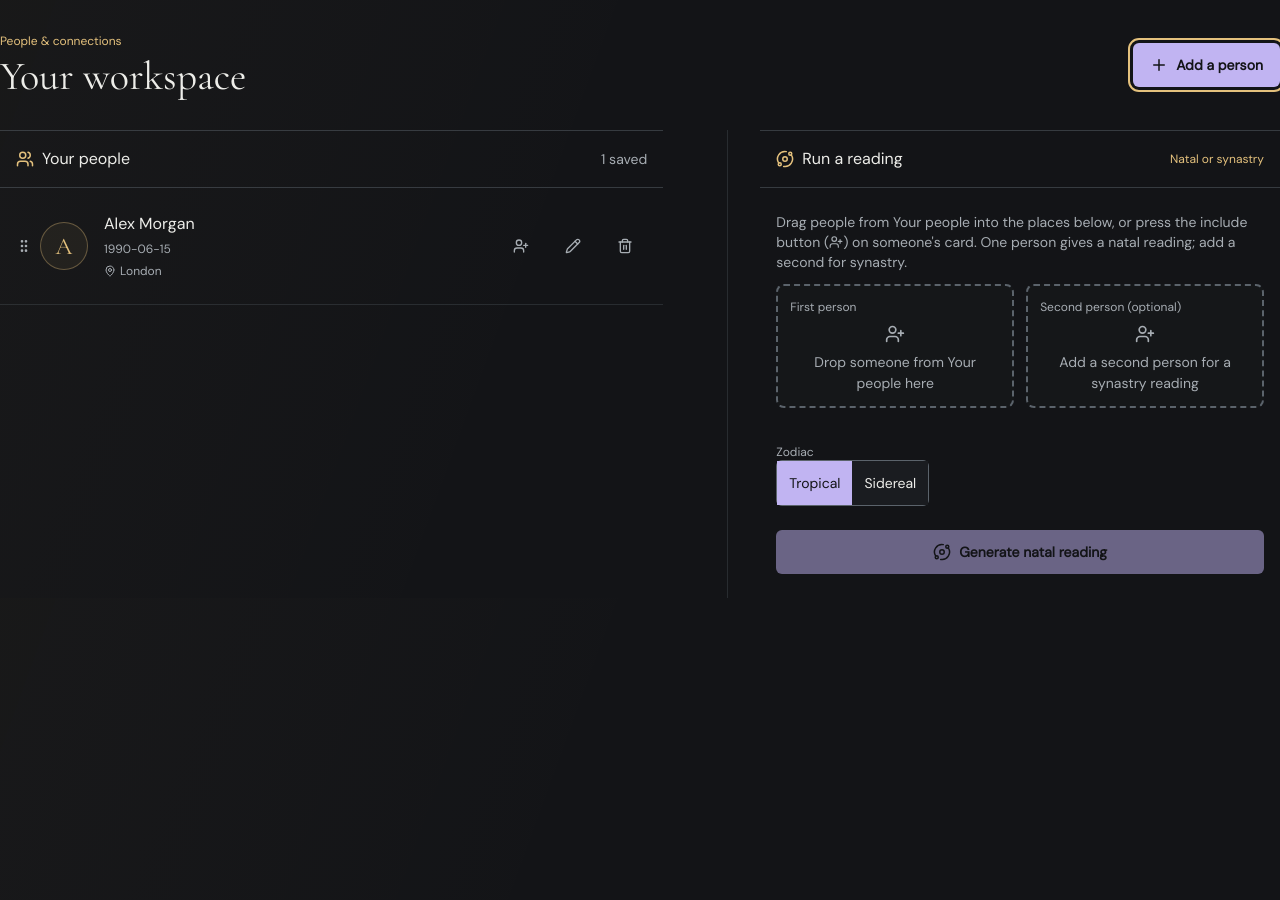
Test case: Workspace person dialogs › keeps saved charts prominent and preserves a draft when the dialog is dismissed
Check: the heading "Alex Morgan" is shown, box [104, 213, 195, 234]
Check: the field labelled "Name" is not shown
Click the button "Add a person".
click(1207, 65)  # box [1133, 43, 1279, 87]
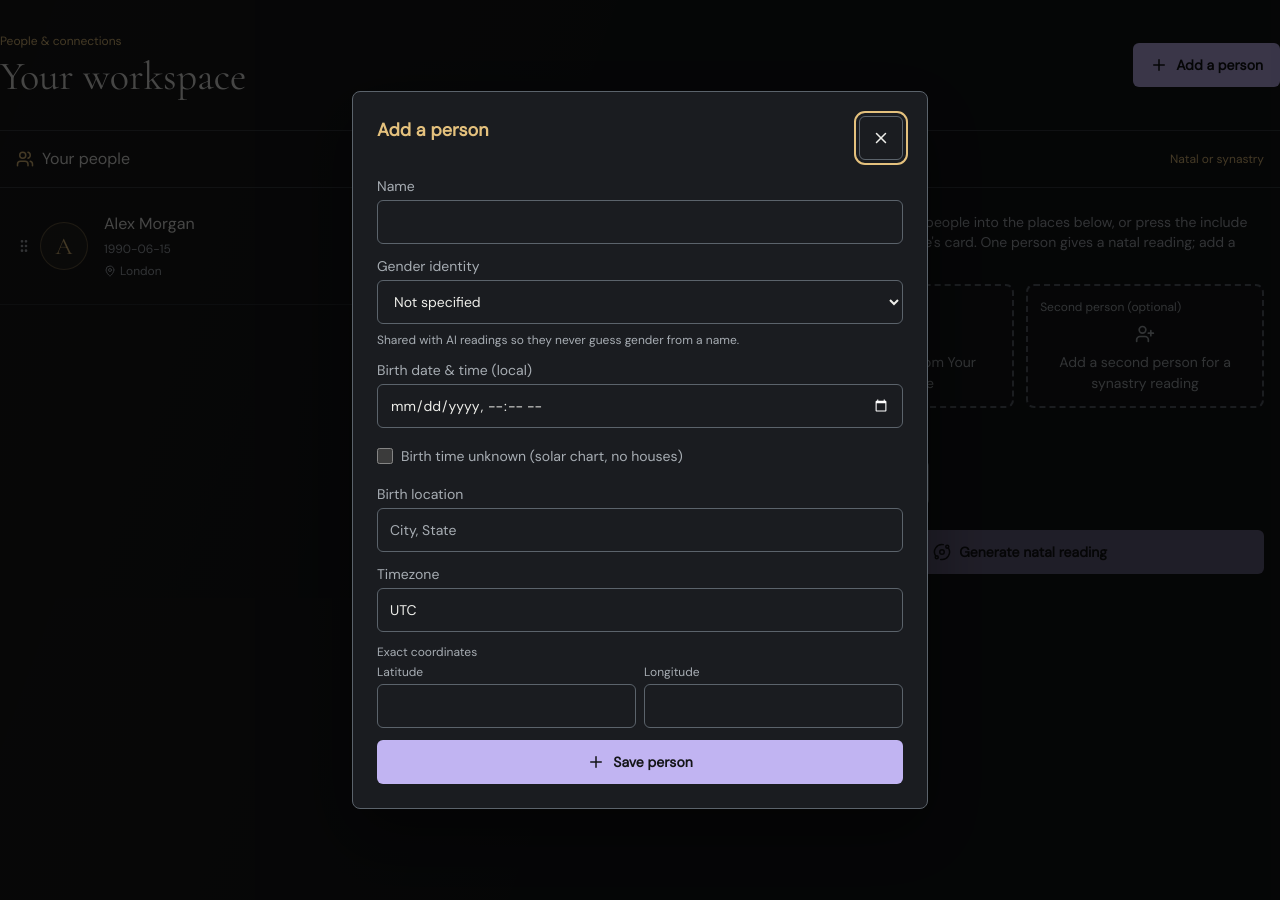
Type "New person" into the field labelled "Name".
click(640, 222); type("New person")  # box [377, 200, 903, 244]
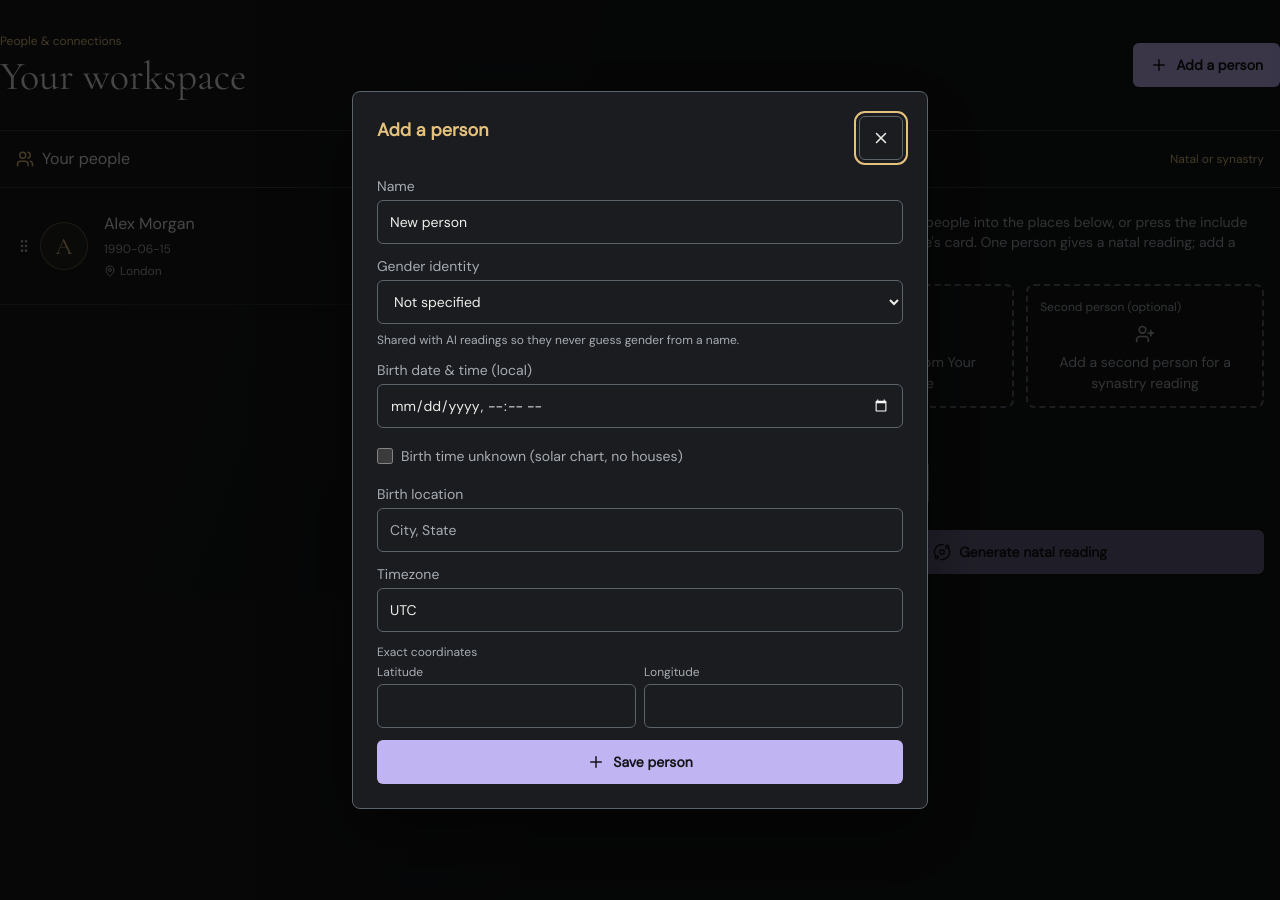
Press Escape in the dialog, box [352, 91, 928, 809]
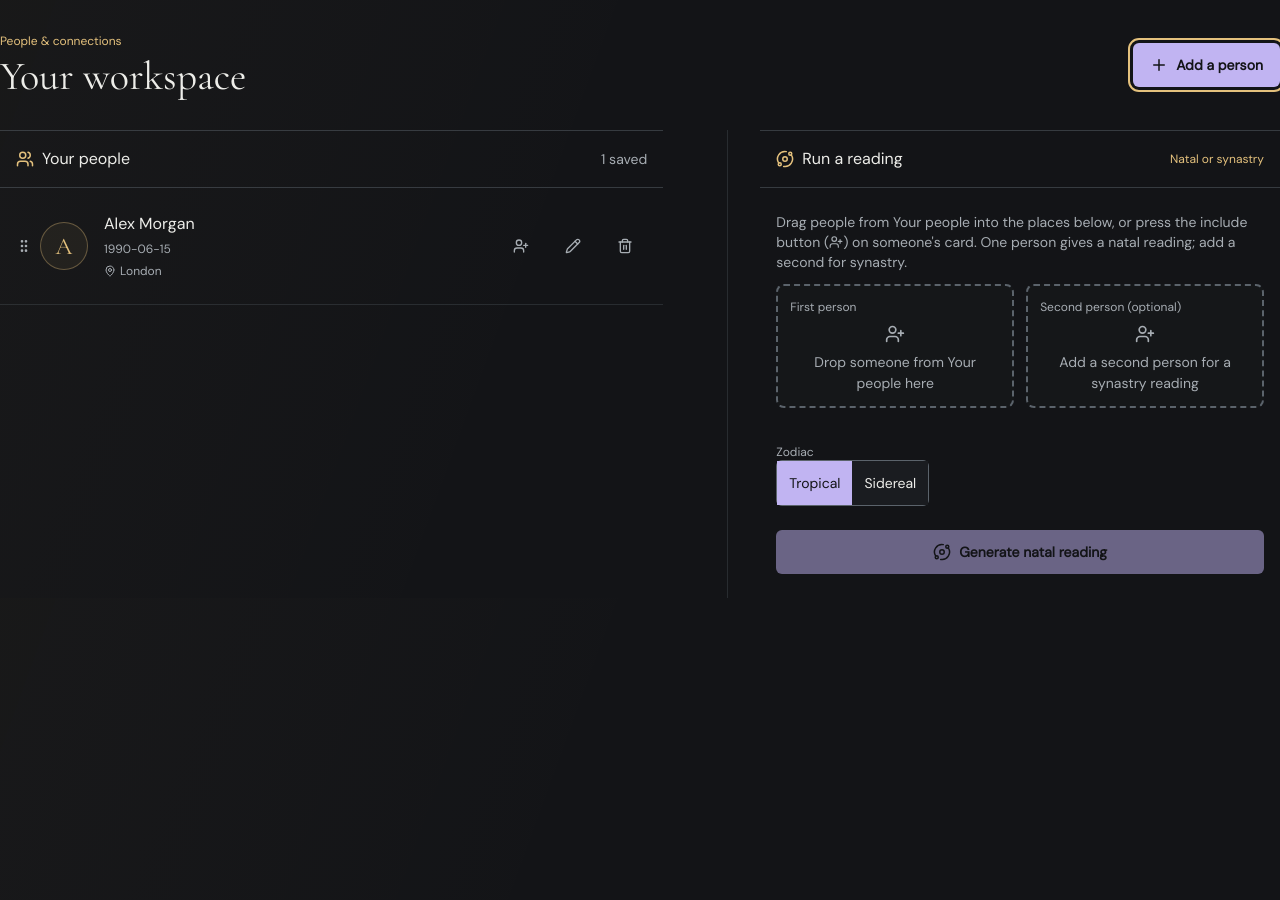
Click the button "Add a person".
click(1207, 65)  # box [1133, 43, 1279, 87]
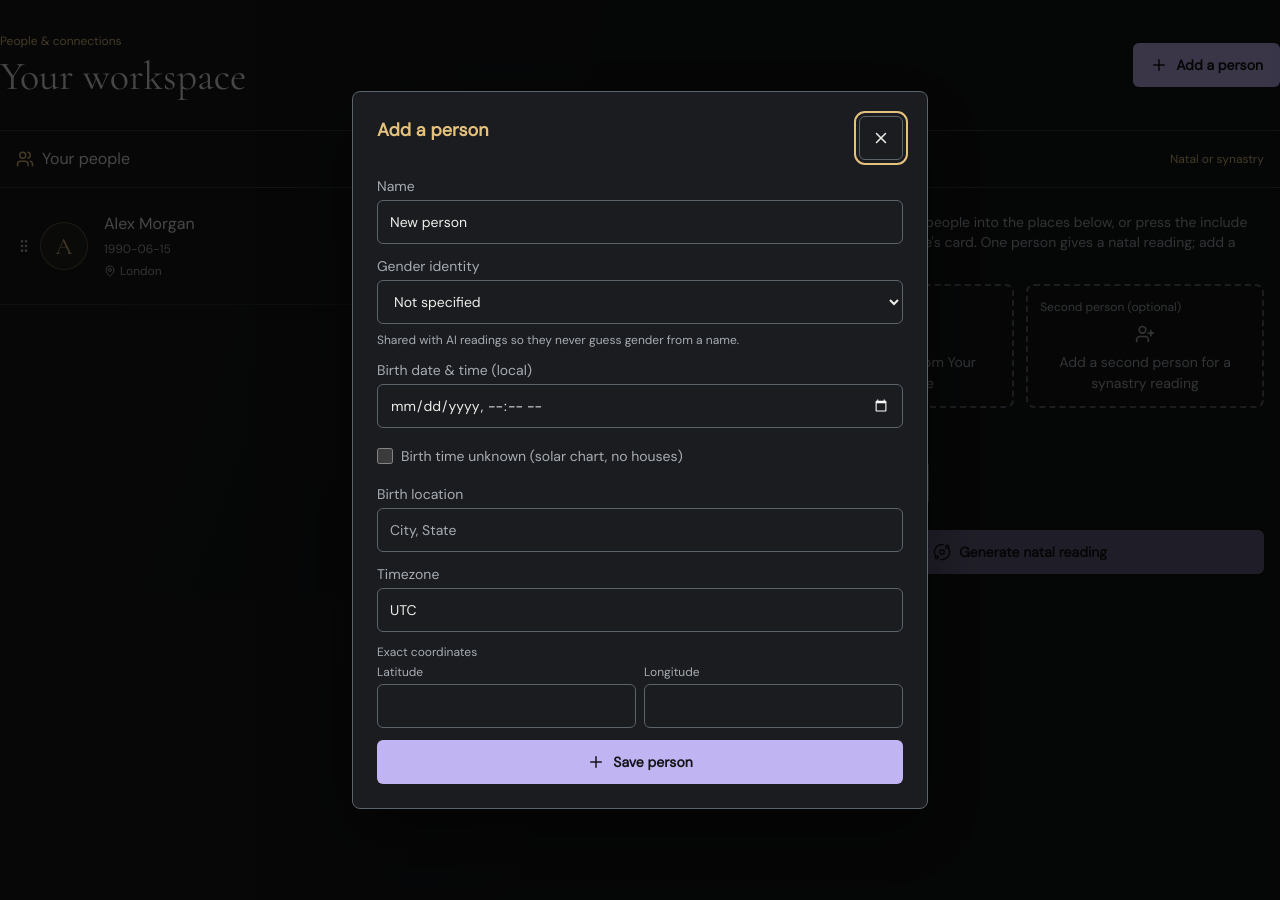
Check: the field labelled "Name" holds "New person", box [377, 200, 903, 244]
